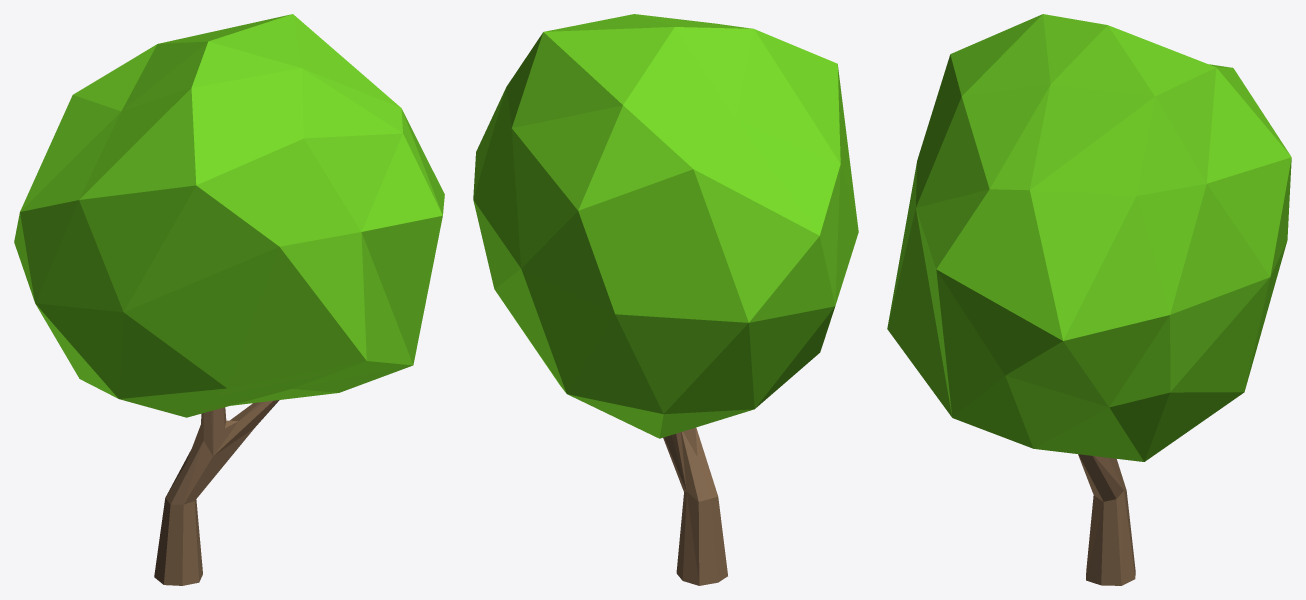
File: Tree_07.fbx
3 views of the same model, side by side, from view 1: azimuth 30°, elevation 25°; view 2: azimuth 150°, elevation 25°; view 3: azimuth 270°, elevation 25° (orthographic). The views are drawn at different scales.
Visible parts, largest first — view 1: Tree_07; view 2: Tree_07; view 3: Tree_07.
Boxes of the visible parts, x1,y1,x2,y2 form: Tree_07: (14, 14, 444, 585); Tree_07: (473, 14, 858, 585); Tree_07: (887, 14, 1291, 585).
Size of the model in its own units: 351 by 466 by 302.
